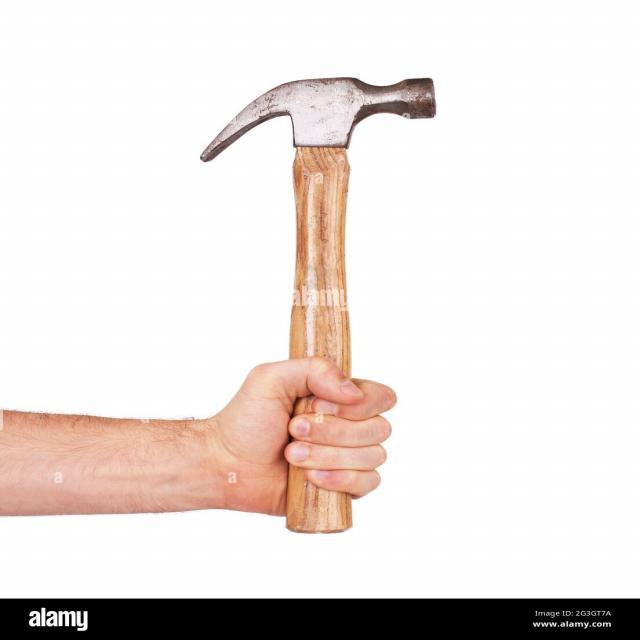hammer: (182, 62, 445, 575)
